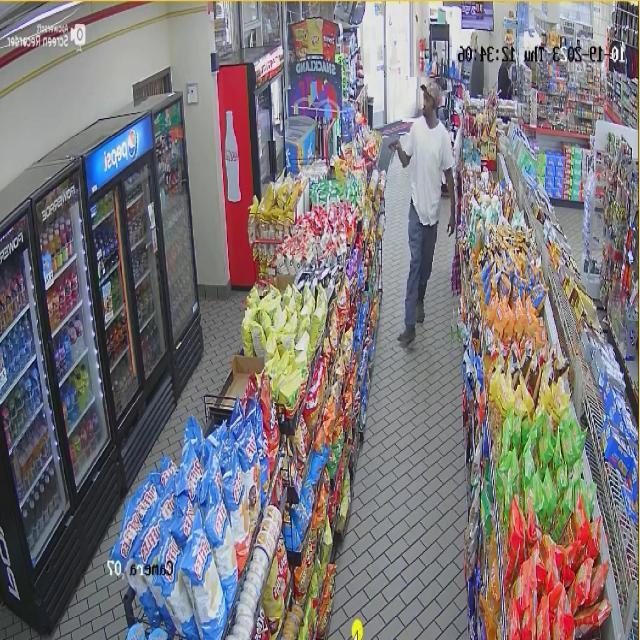Normal: (384, 77, 463, 350)
